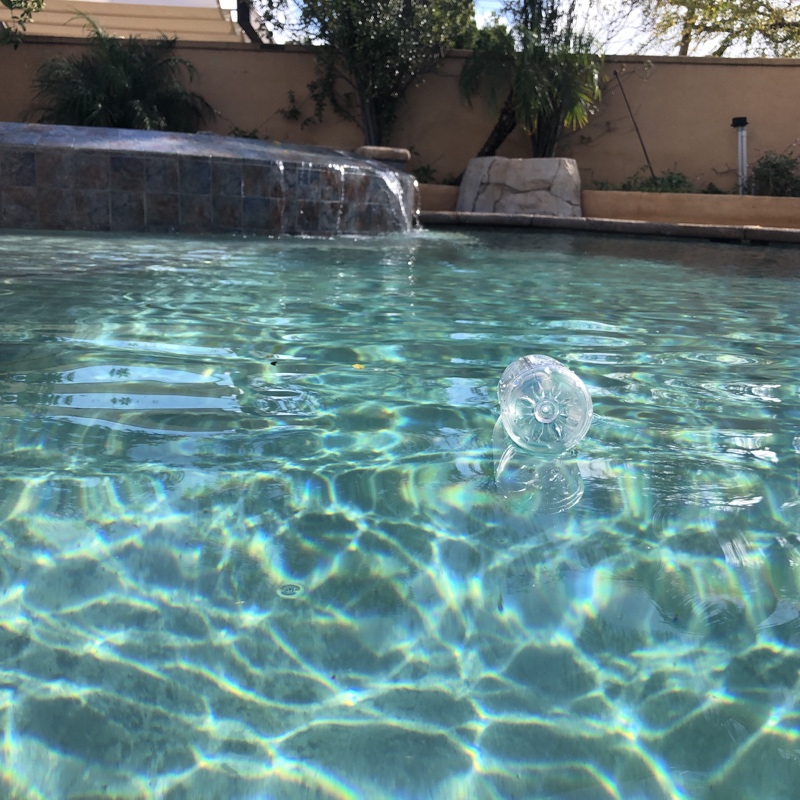Plastic Bottle: (496, 348, 596, 457)
